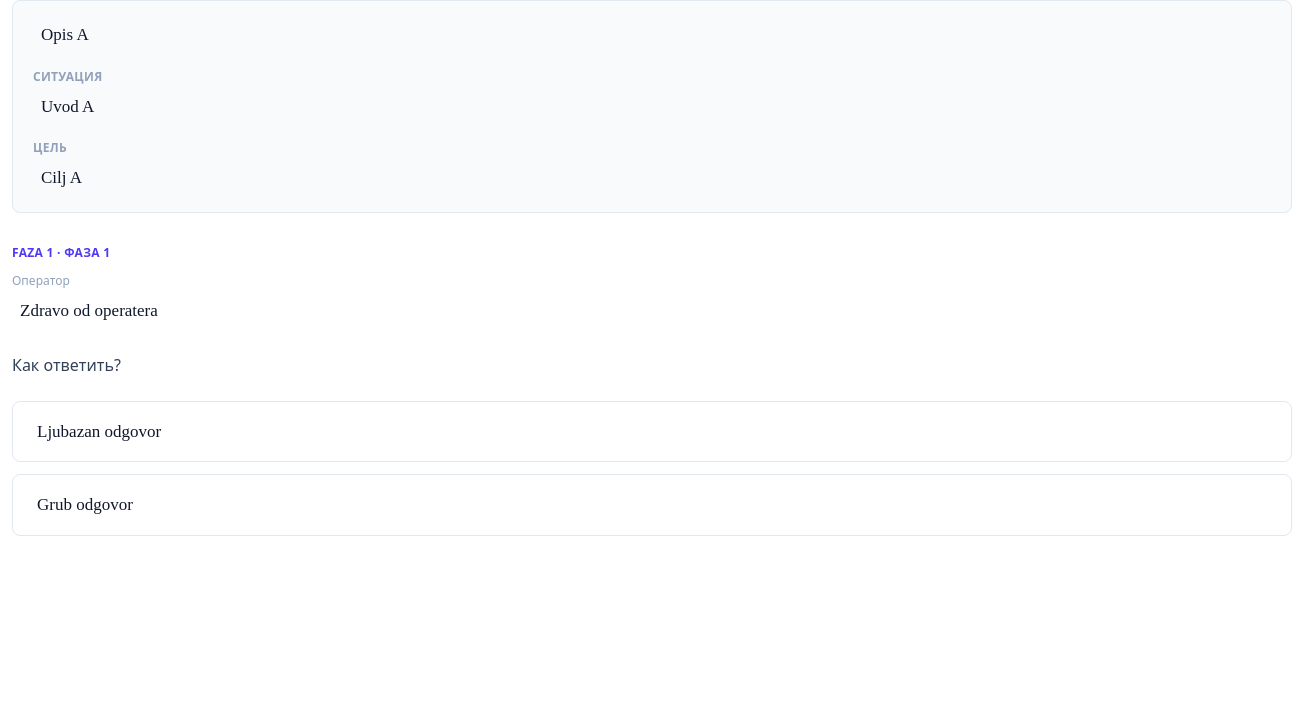
QuestPlayer › peeks a choice translation on hover in reveal mode without selecting
expect the text "Вежливый ответ" is not shown: met
Hover over the button "Ljubazan odgovor": (99, 431) [12,400,1292,462]
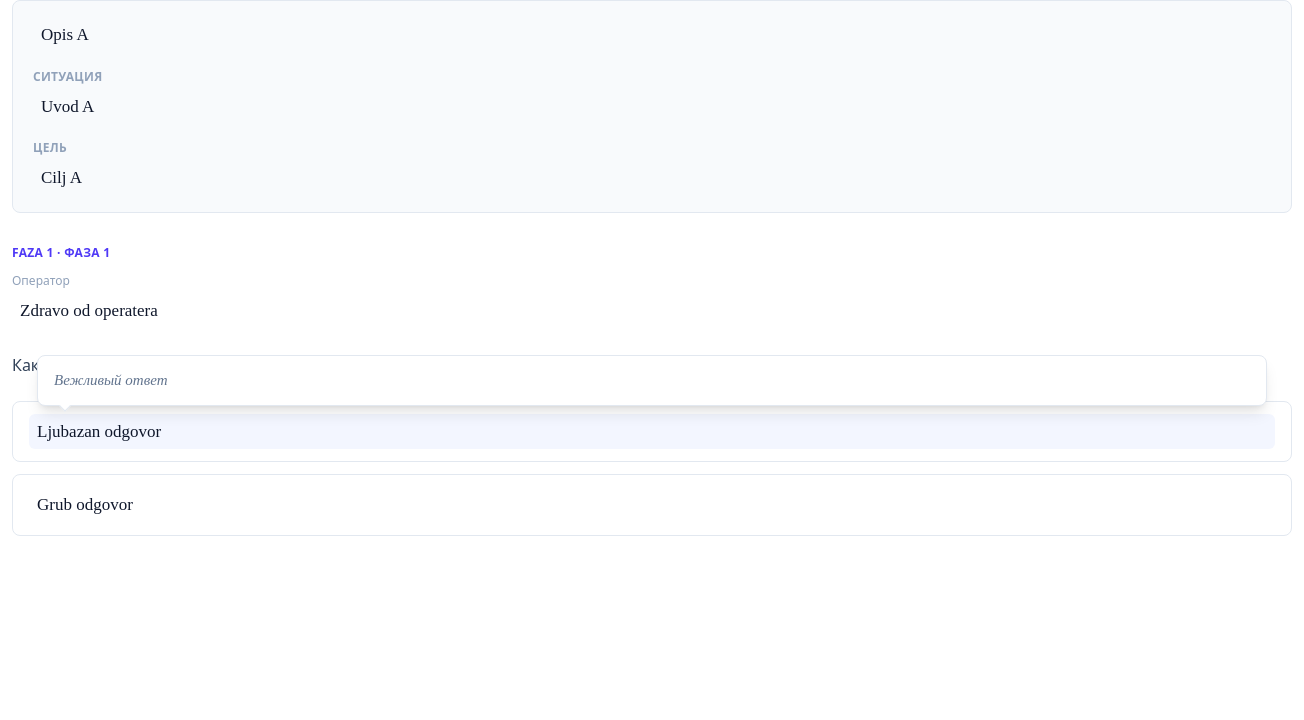
expect the text "Вежливый ответ" is shown: met, box [54,372,168,388]
Move the pointer off the button "Ljubazan odgovor Вежливый ответ", box [12,400,1292,462]
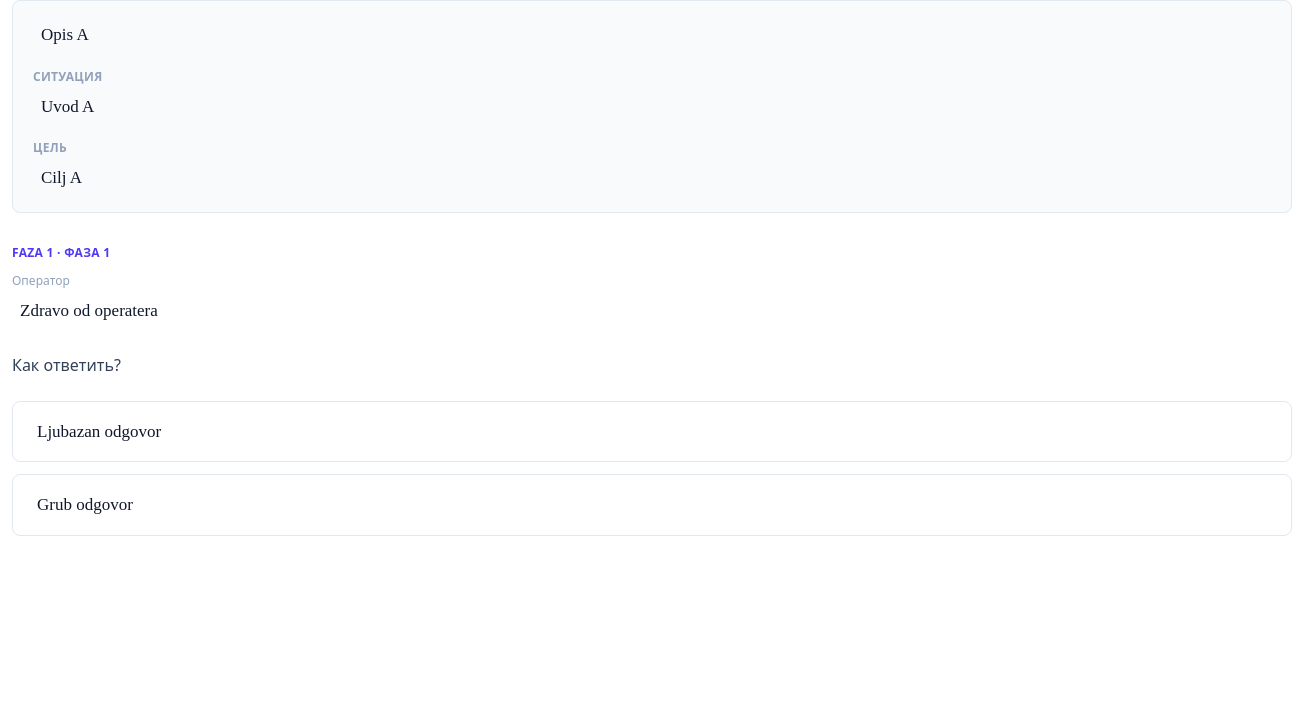
expect the text "Вежливый ответ" is gone: met
